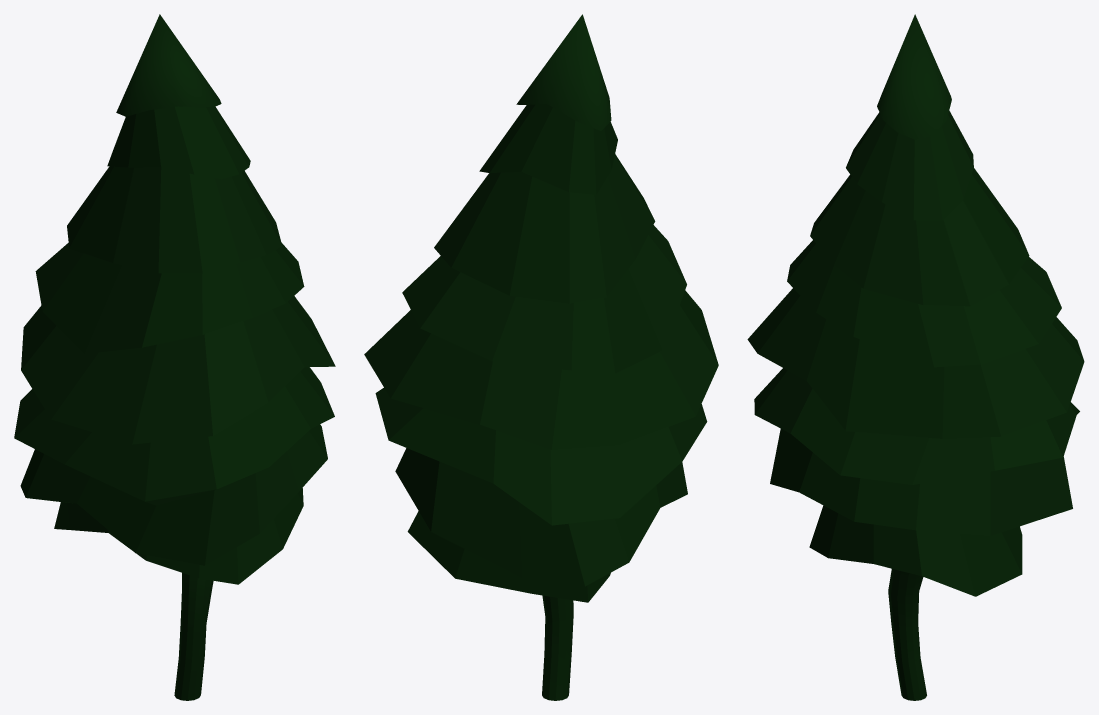
Rendered from Tree3.obj.
3 renders of one model, left to right at view 1: azimuth 30°, elevation 25°; view 2: azimuth 150°, elevation 25°; view 3: azimuth 270°, elevation 25°, orthographic. The views are drawn at different scales.
Parts seen in each view (by area): view 1: Tree; view 2: Tree; view 3: Tree.
Part boxes in pixels (<box>): Tree: <box>14,14,335,700</box>; Tree: <box>364,14,718,700</box>; Tree: <box>747,14,1084,700</box>.
Bounding box in the file's own units: 24.33 × 56.16 × 25.67.
